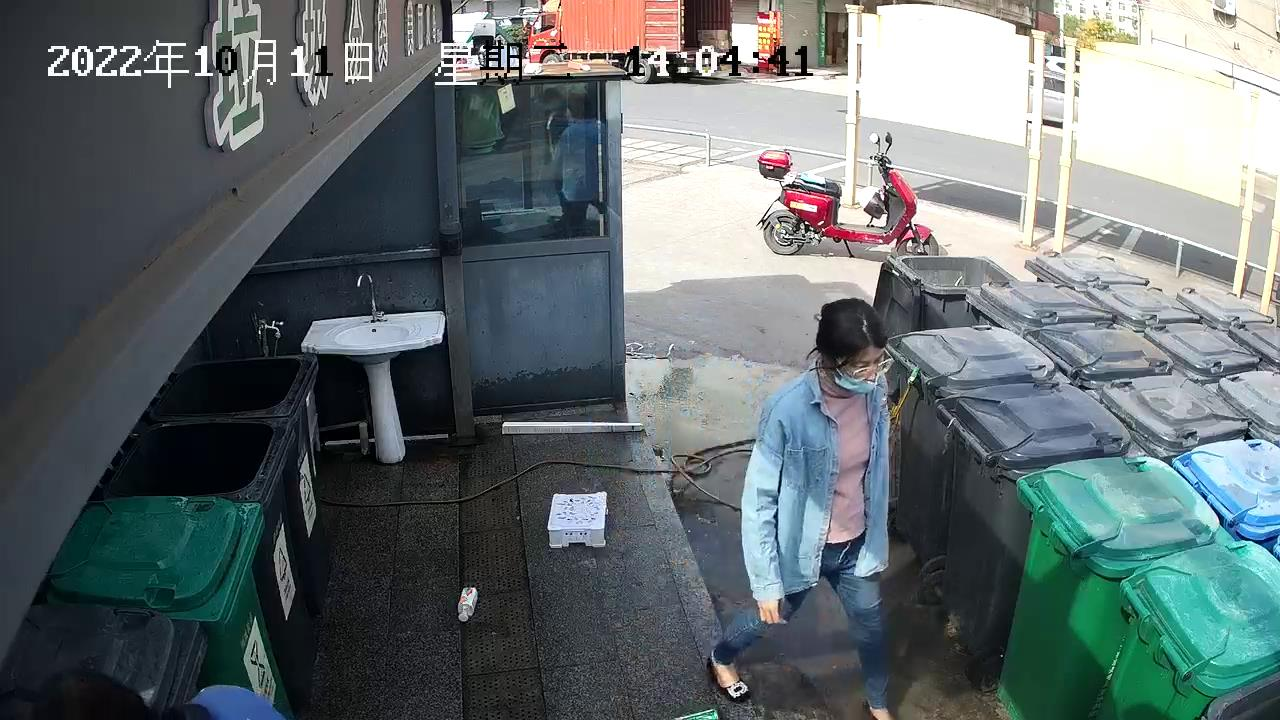suliaozhipin: (543, 487, 611, 551), (456, 583, 479, 623)
worker: (705, 295, 898, 720)
